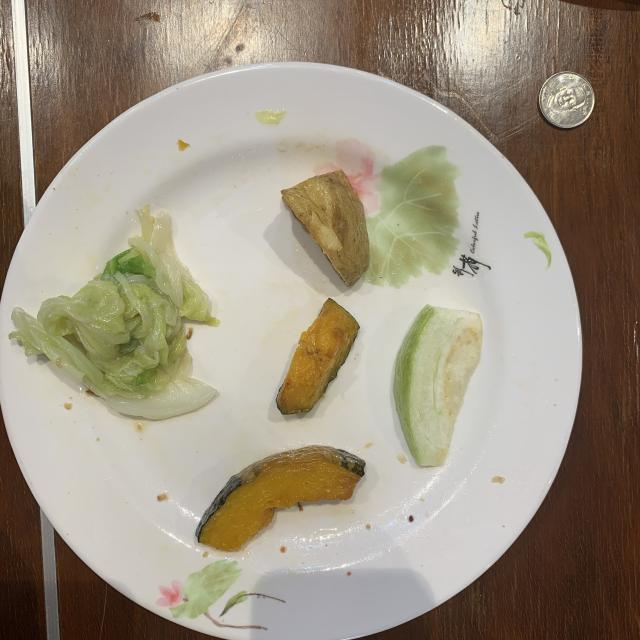cabbage: (10, 205, 219, 419)
coin: (539, 71, 595, 129)
fried potato: (281, 170, 369, 286)
guava -sliced-: (394, 305, 482, 466)
pumpkin: (196, 445, 365, 551), (276, 299, 359, 415)
